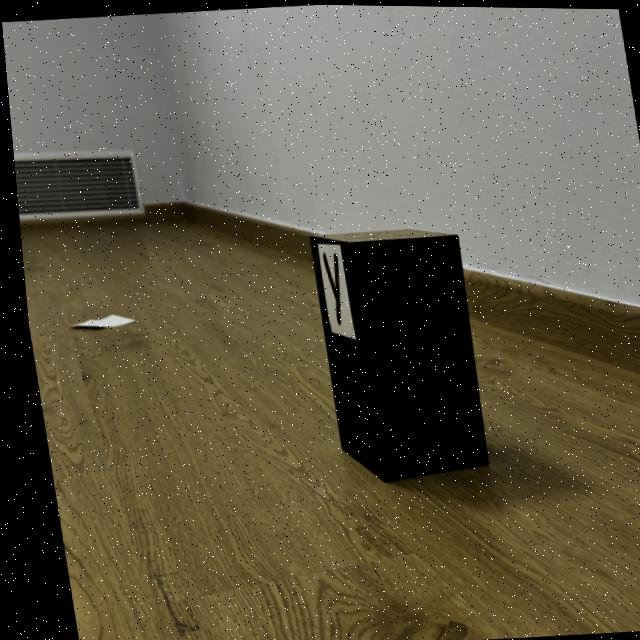Y: (317, 251, 335, 324)
